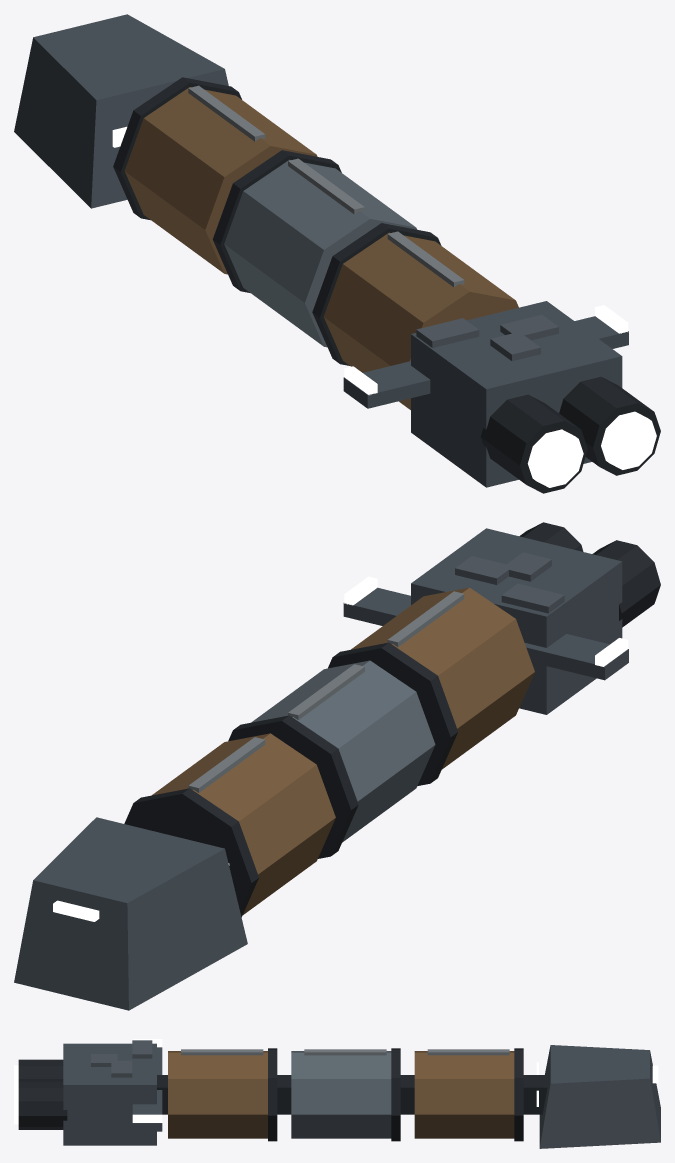
File: od_hauler_a.glb
3 views of the same model, one above another, from view 1: azimuth 30°, elevation 25°; view 2: azimuth 150°, elevation 25°; view 3: azimuth 270°, elevation 25° (orthographic). The views are drawn at different scales.
Parts seen in each view (by area): view 1: od_hauler_a_body, od_hauler_a_lit_emit; view 2: od_hauler_a_body, od_hauler_a_lit_emit; view 3: od_hauler_a_body, od_hauler_a_lit_emit.
Part boxes in pixels (<box>): od_hauler_a_body: <box>14,14,660,493</box>; od_hauler_a_lit_emit: <box>112,126,656,487</box>; od_hauler_a_body: <box>14,522,660,1010</box>; od_hauler_a_lit_emit: <box>53,576,628,921</box>; od_hauler_a_body: <box>18,1040,660,1148</box>; od_hauler_a_lit_emit: <box>14,1039,658,1124</box>.
Bounding box in the file's own units: 10 × 5.3 × 34.65.
